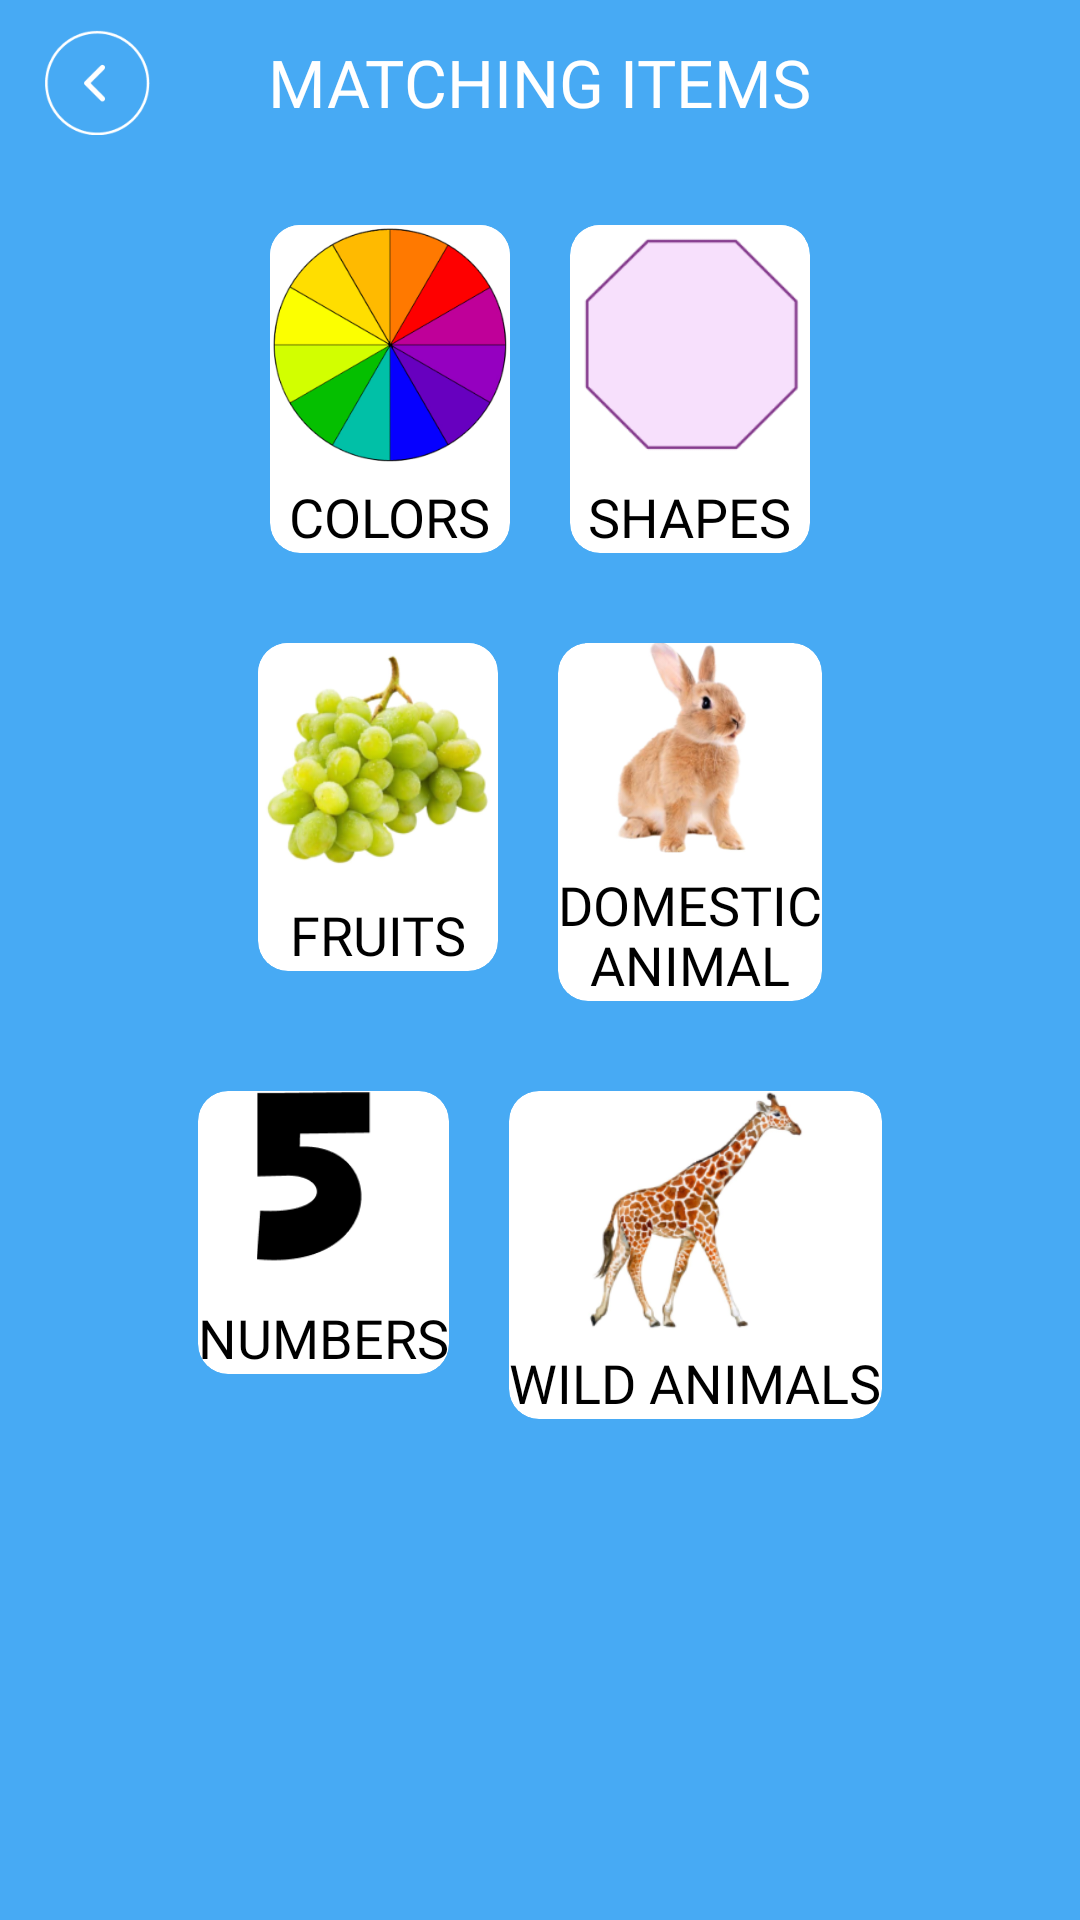

Icons on this 1080px×1920px Android screen, each with its box as rect(x1, y1, x2, y2):
animals: rect(618, 643, 795, 853)
back: rect(45, 31, 150, 135)
